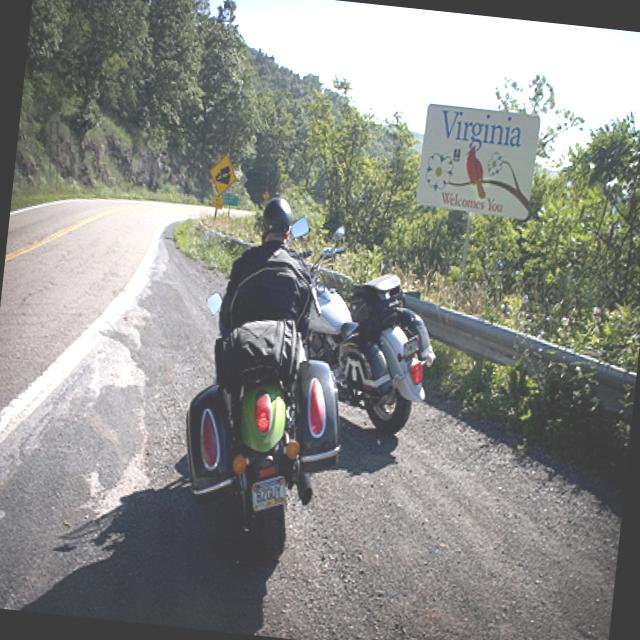Vehicle: (178, 293, 358, 570), (288, 224, 443, 444)
